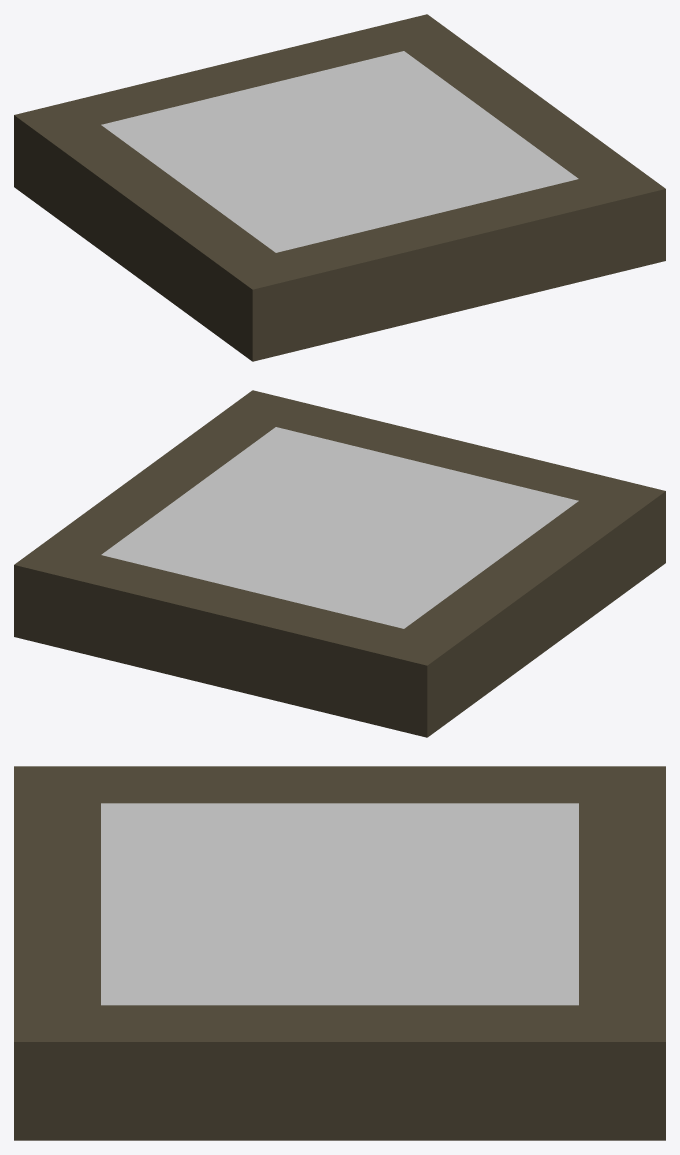
File: EVT_ADDON_LSTTEMP_PLATESDEAD_01.OBJ
The picture shows the model from 3 angles, top to bottom: view 1: azimuth 30°, elevation 25°; view 2: azimuth 150°, elevation 25°; view 3: azimuth 270°, elevation 25°; orthographic projection. The views are drawn at different scales.
Parts seen in each view (by area): view 1: EVT_ADDON_LSTTEMP_PLATESDEAD_01; view 2: EVT_ADDON_LSTTEMP_PLATESDEAD_01; view 3: EVT_ADDON_LSTTEMP_PLATESDEAD_01.
Part boxes in pixels (left/top/right/bottom): EVT_ADDON_LSTTEMP_PLATESDEAD_01: left=14, top=14, right=665, bottom=361; EVT_ADDON_LSTTEMP_PLATESDEAD_01: left=14, top=390, right=665, bottom=737; EVT_ADDON_LSTTEMP_PLATESDEAD_01: left=14, top=766, right=665, bottom=1140.
Bounding box in the file's own units: 3 × 0.5 × 3.
